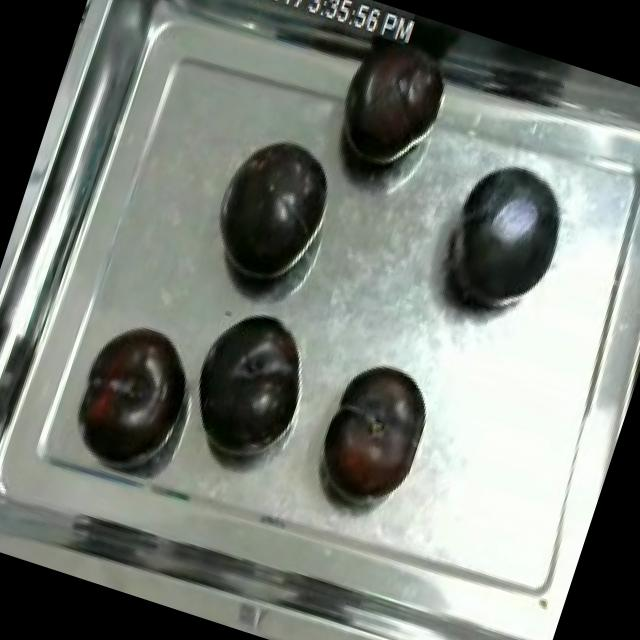Fruit: (421, 142, 588, 338), (174, 292, 324, 470), (198, 121, 346, 300), (62, 308, 208, 481), (320, 24, 462, 188), (306, 348, 442, 515)
